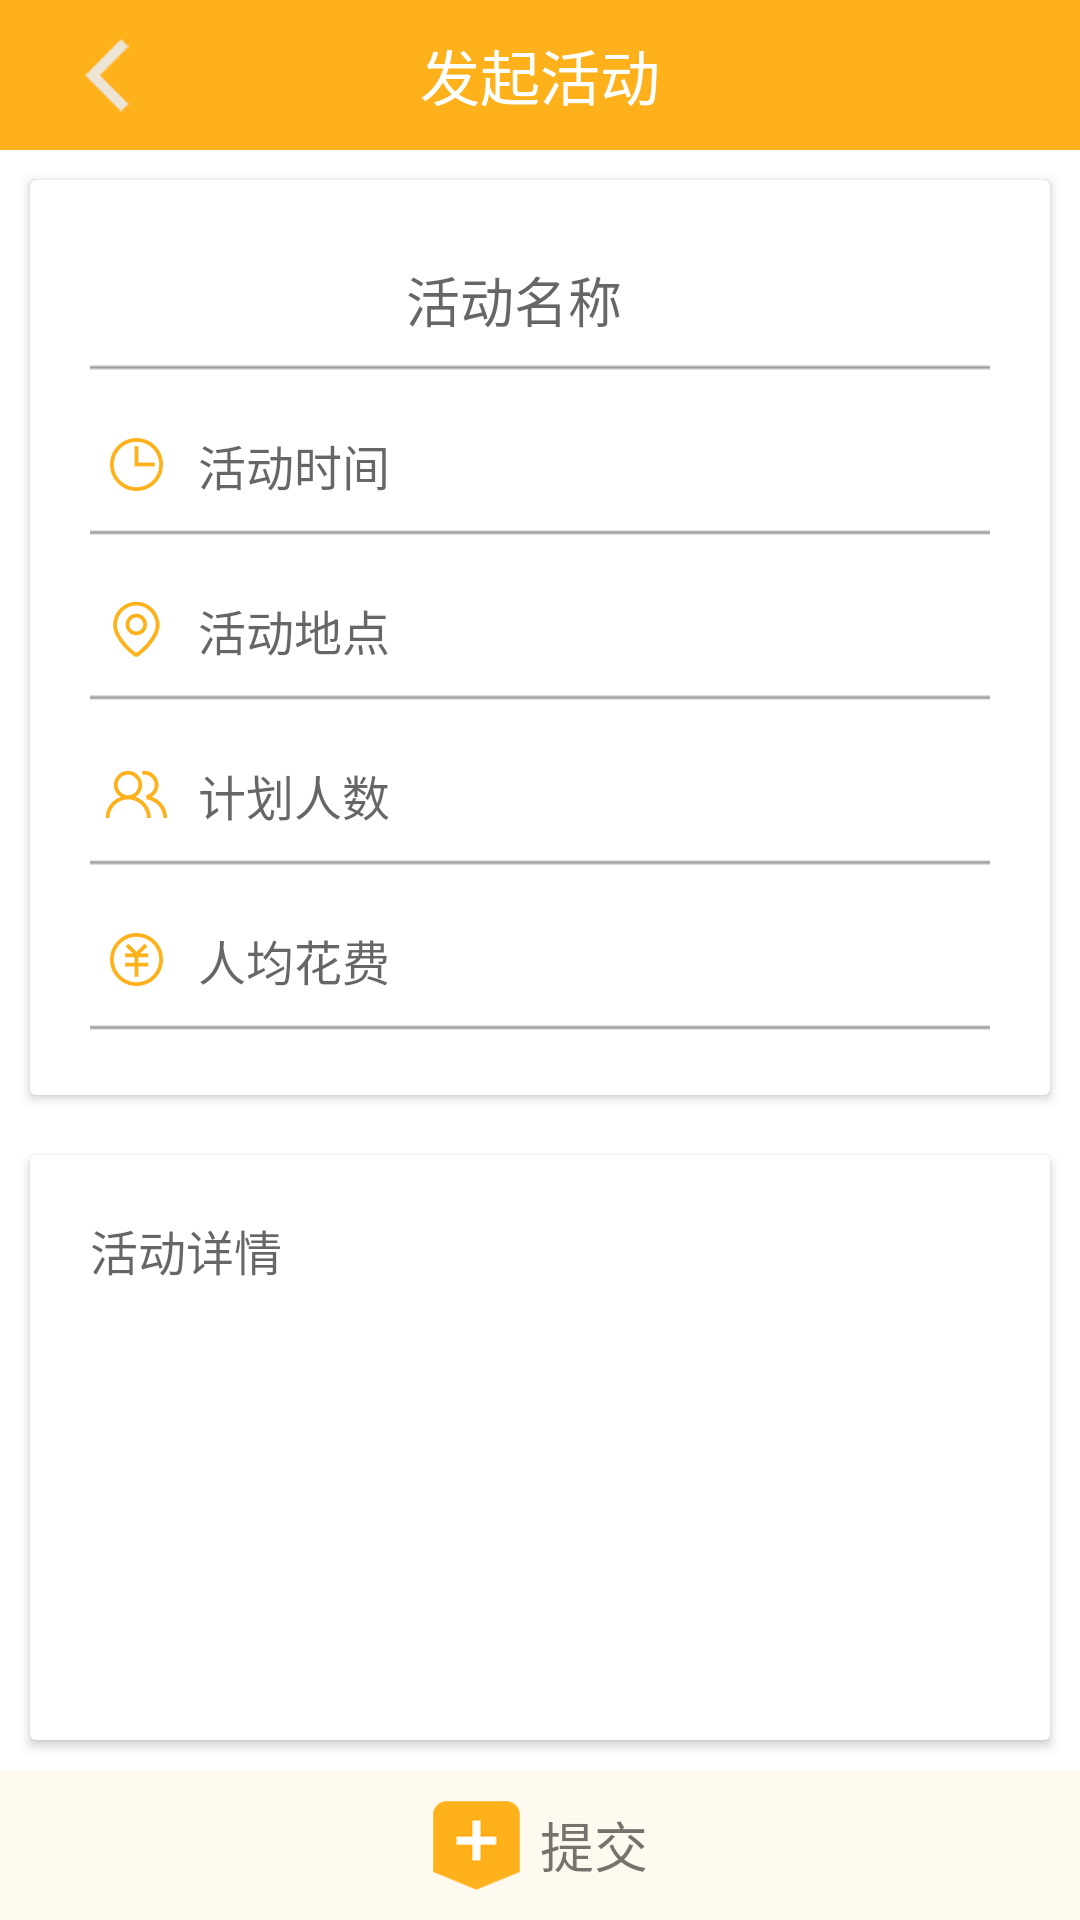

Icon click points for this 1080w x 1920h phone screenshot, format (x=x, y=y):
back: (x=107, y=75)
raise seleted: (x=476, y=1845)
